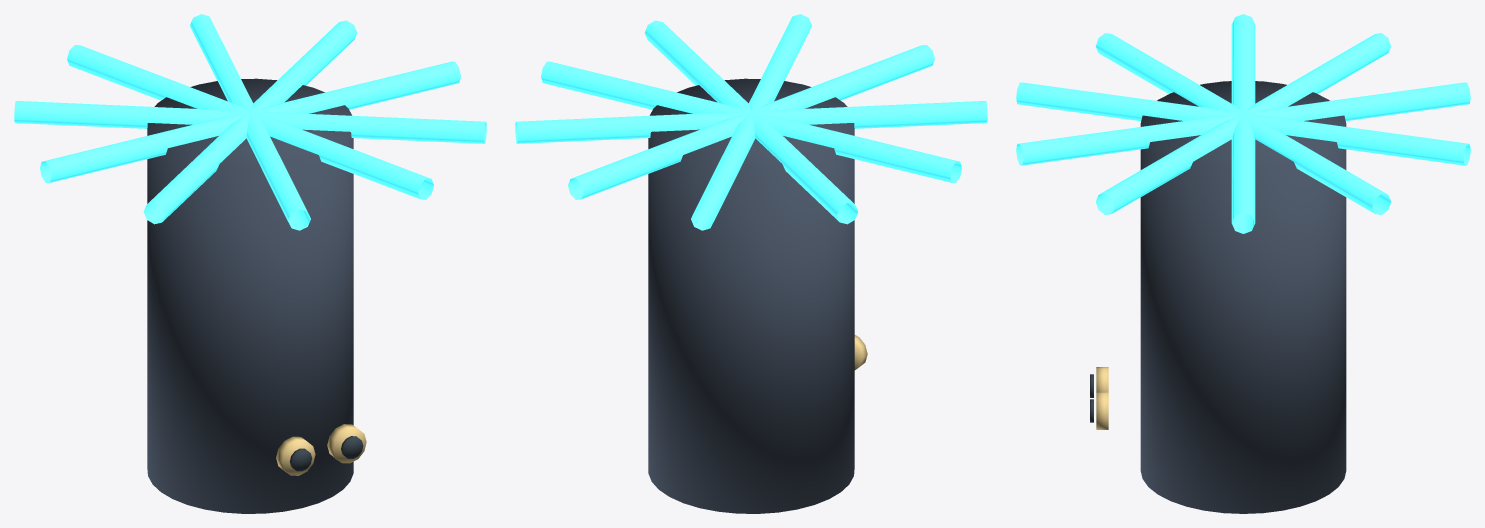
File: 56_L92_SurfaceLidarScanner.fbx
The picture shows the model from 3 angles, left to right: view 1: azimuth 30°, elevation 25°; view 2: azimuth 150°, elevation 25°; view 3: azimuth 270°, elevation 25°; orthographic projection.
Parts seen in each view (by area): view 1: L92_SurfaceLidarScanner_Part_0000, L92_SurfaceLidarScanner_Part_0001, L92_SurfaceLidarScanner_Part_0004, L92_SurfaceLidarScanner_Part_0002; view 2: L92_SurfaceLidarScanner_Part_0000, L92_SurfaceLidarScanner_Part_0001; view 3: L92_SurfaceLidarScanner_Part_0000, L92_SurfaceLidarScanner_Part_0001.
Part boxes in pixels (left/top/right/bottom): L92_SurfaceLidarScanner_Part_0000: left=147, top=78, right=353, bottom=513; L92_SurfaceLidarScanner_Part_0001: left=14, top=14, right=486, bottom=230; L92_SurfaceLidarScanner_Part_0004: left=327, top=424, right=366, bottom=463; L92_SurfaceLidarScanner_Part_0002: left=276, top=436, right=315, bottom=475; L92_SurfaceLidarScanner_Part_0000: left=648, top=78, right=854, bottom=513; L92_SurfaceLidarScanner_Part_0001: left=515, top=14, right=987, bottom=230; L92_SurfaceLidarScanner_Part_0000: left=1140, top=81, right=1346, bottom=513; L92_SurfaceLidarScanner_Part_0001: left=1016, top=14, right=1470, bottom=233.
Size of the model in its own units: 1.6 by 1.34 by 1.55.
